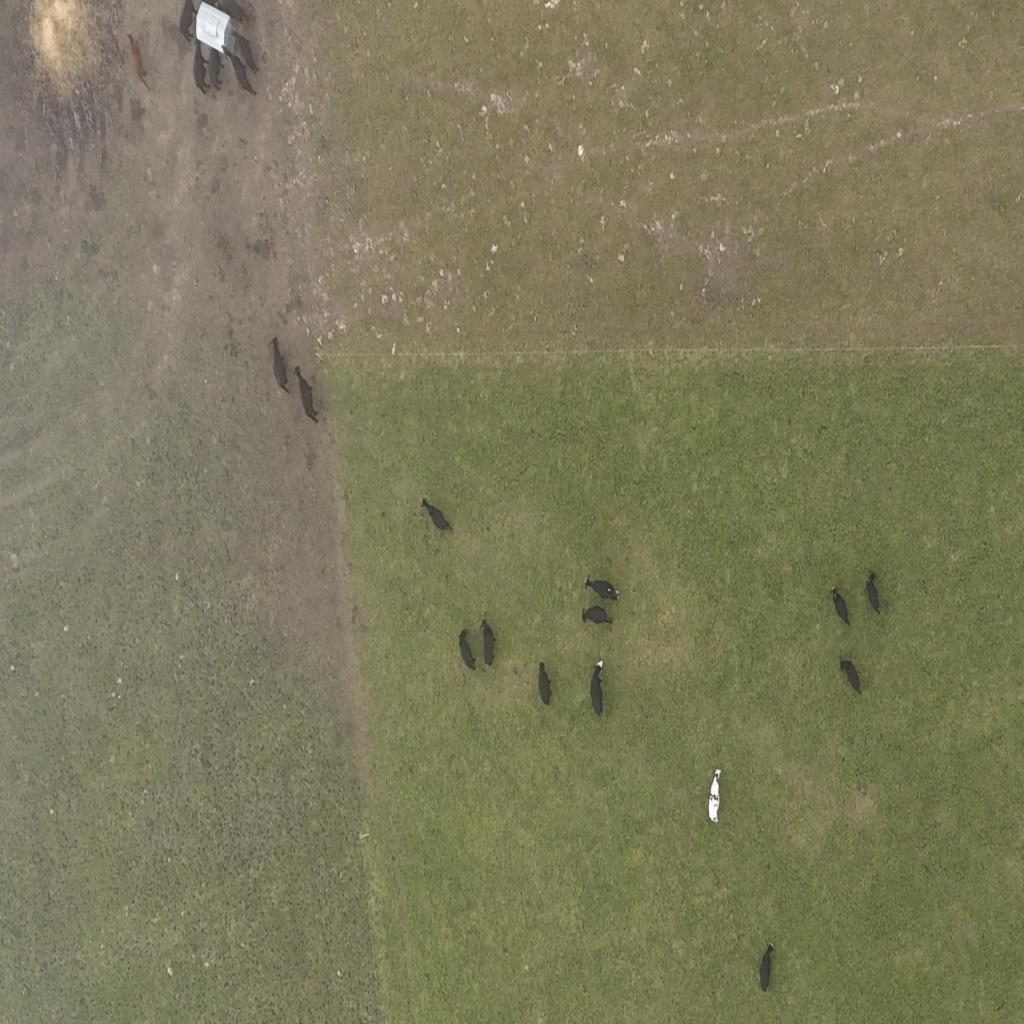cow: (222, 44, 258, 101), (124, 31, 153, 96), (294, 364, 319, 424), (229, 28, 259, 76), (420, 498, 452, 533), (270, 338, 288, 394), (584, 576, 620, 603), (193, 39, 210, 96), (707, 764, 723, 824), (865, 571, 885, 615), (178, 0, 198, 44), (831, 585, 851, 628), (840, 655, 862, 694), (590, 660, 605, 717), (758, 940, 774, 992), (581, 602, 614, 627), (208, 44, 224, 93), (226, 0, 255, 27), (480, 618, 496, 666), (458, 629, 476, 671), (538, 660, 552, 706)
